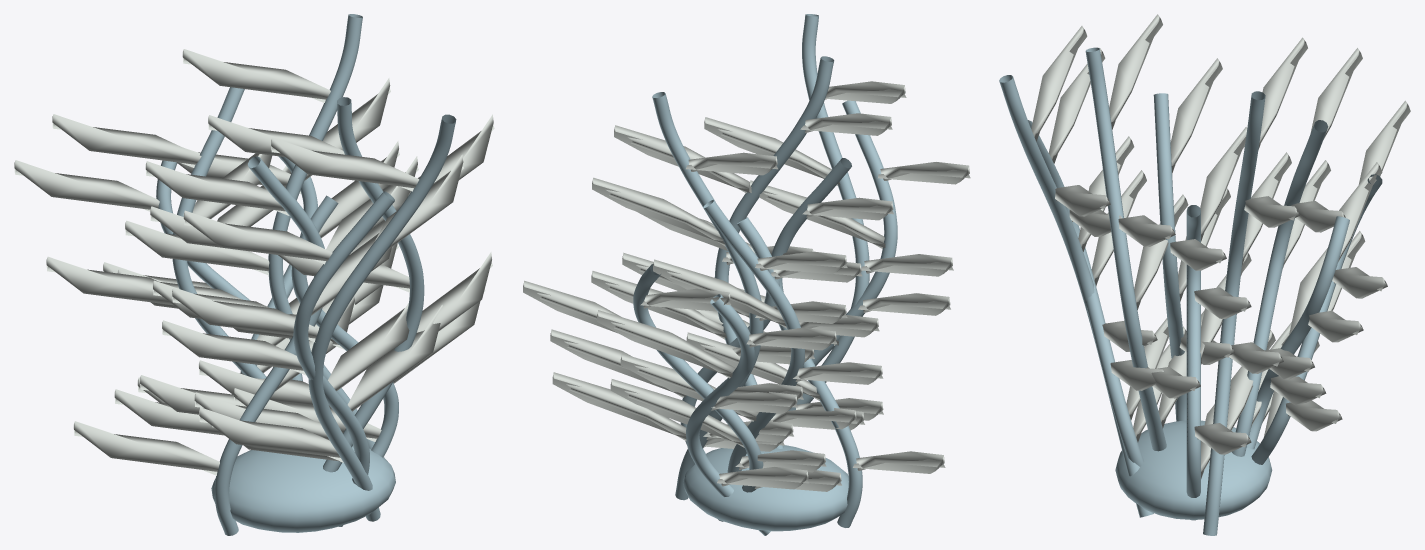
The model's file is bio_aquatic_frond_11_near.glb.
The picture shows the model from 3 angles, left to right: view 1: azimuth 30°, elevation 25°; view 2: azimuth 150°, elevation 25°; view 3: azimuth 270°, elevation 25°; orthographic projection. The views are drawn at different scales.
Visible parts, largest first — view 1: Ruffled aquatic blade.010, Holdfast, Ruffled aquatic blade.035, Ruffled aquatic blade.040, Ruffled aquatic blade.020, Ruffled aquatic blade.005, Ruffled aquatic blade.025, Flexible stipe.002, Ruffled aquatic blade.030, Ruffled aquatic blade.015, Flexible stipe.007, Flexible stipe.004 (+7 smaller); view 2: Ruffled aquatic blade.030, Ruffled aquatic blade.005, Holdfast, Ruffled aquatic blade.025, Ruffled aquatic blade.015, Ruffled aquatic blade.020, Ruffled aquatic blade.010, Ruffled aquatic blade.040, Ruffled aquatic blade.035, Ruffled aquatic blade, Flexible stipe.004, Flexible stipe.008 (+7 smaller); view 3: Holdfast, Ruffled aquatic blade.040, Ruffled aquatic blade.025, Flexible stipe.005, Flexible stipe.008, Ruffled aquatic blade.010, Ruffled aquatic blade.035, Ruffled aquatic blade, Ruffled aquatic blade.005, Ruffled aquatic blade.030, Ruffled aquatic blade.020, Ruffled aquatic blade.015 (+7 smaller).
Part boxes in pixels (bbox=[...]): Ruffled aquatic blade.010: bbox=[172, 137, 463, 462]; Holdfast: bbox=[211, 445, 395, 532]; Ruffled aquatic blade.035: bbox=[162, 210, 442, 462]; Ruffled aquatic blade.040: bbox=[125, 49, 398, 407]; Ruffled aquatic blade.020: bbox=[73, 156, 418, 475]; Ruffled aquatic blade.005: bbox=[46, 114, 299, 414]; Ruffled aquatic blade.025: bbox=[194, 114, 494, 439]; Flexible stipe.002: bbox=[308, 114, 456, 521]; Ruffled aquatic blade.030: bbox=[14, 160, 383, 403]; Ruffled aquatic blade.015: bbox=[114, 141, 399, 435]; Flexible stipe.007: bbox=[293, 191, 394, 526]; Flexible stipe.004: bbox=[214, 156, 324, 535]; Ruffled aquatic blade.030: bbox=[552, 310, 837, 489]; Ruffled aquatic blade.005: bbox=[620, 251, 883, 472]; Holdfast: bbox=[683, 445, 848, 531]; Ruffled aquatic blade.025: bbox=[591, 113, 892, 429]; Ruffled aquatic blade.015: bbox=[523, 280, 841, 491]; Ruffled aquatic blade.020: bbox=[638, 197, 945, 473]; Ruffled aquatic blade.010: bbox=[704, 81, 953, 420]; Ruffled aquatic blade.040: bbox=[592, 152, 847, 442]; Ruffled aquatic blade.035: bbox=[695, 162, 970, 430]; Ruffled aquatic blade: bbox=[550, 252, 862, 451]; Flexible stipe.004: bbox=[771, 158, 862, 527]; Flexible stipe.008: bbox=[652, 92, 763, 500]; Holdfast: bbox=[1115, 420, 1272, 519]; Ruffled aquatic blade.040: bbox=[1227, 37, 1307, 430]; Ruffled aquatic blade.025: bbox=[1109, 14, 1202, 428]; Flexible stipe.005: bbox=[1085, 47, 1166, 451]; Flexible stipe.008: bbox=[1203, 91, 1265, 535]; Ruffled aquatic blade.010: bbox=[1031, 26, 1168, 420]; Ruffled aquatic blade.035: bbox=[1048, 48, 1186, 442]; Ruffled aquatic blade: bbox=[1194, 127, 1251, 478]; Ruffled aquatic blade.005: bbox=[1251, 48, 1362, 426]; Ruffled aquatic blade.030: bbox=[1264, 100, 1410, 436]; Ruffled aquatic blade.020: bbox=[1170, 58, 1234, 364]; Ruffled aquatic blade.015: bbox=[1262, 162, 1382, 422].
Size of the model in its own units: 1.8 by 1.89 by 1.57.
